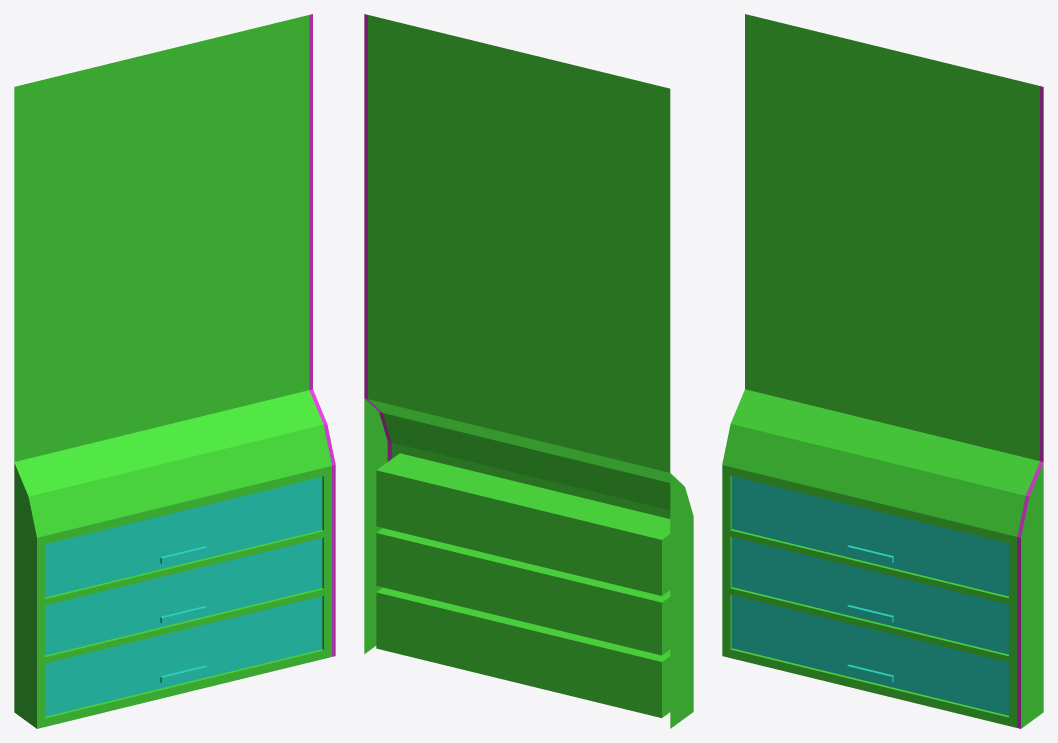
Rendered from Wall_43_I_Straight.fbx.
The picture shows the model from 3 angles, left to right: view 1: azimuth 30°, elevation 25°; view 2: azimuth 150°, elevation 25°; view 3: azimuth 330°, elevation 25°; orthographic projection. The views are drawn at different scales.
Visible parts, largest first — view 1: Wall_43_I_Straight; view 2: Wall_43_I_Straight; view 3: Wall_43_I_Straight.
Boxes of the visible parts, x1,y1,x2,y2 form: Wall_43_I_Straight: (14,14,335,728); Wall_43_I_Straight: (364,14,693,728); Wall_43_I_Straight: (722,14,1043,728).
Size of the model in its own units: 229 by 457 by 30.51.
